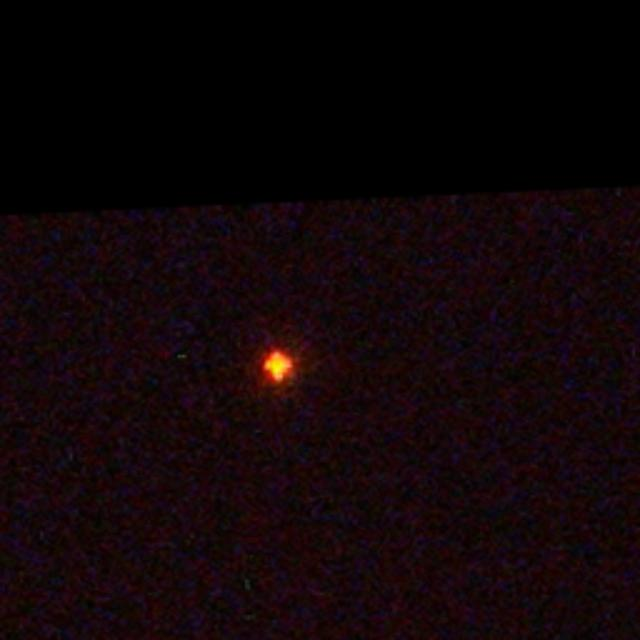Film: (260, 348, 300, 384)
